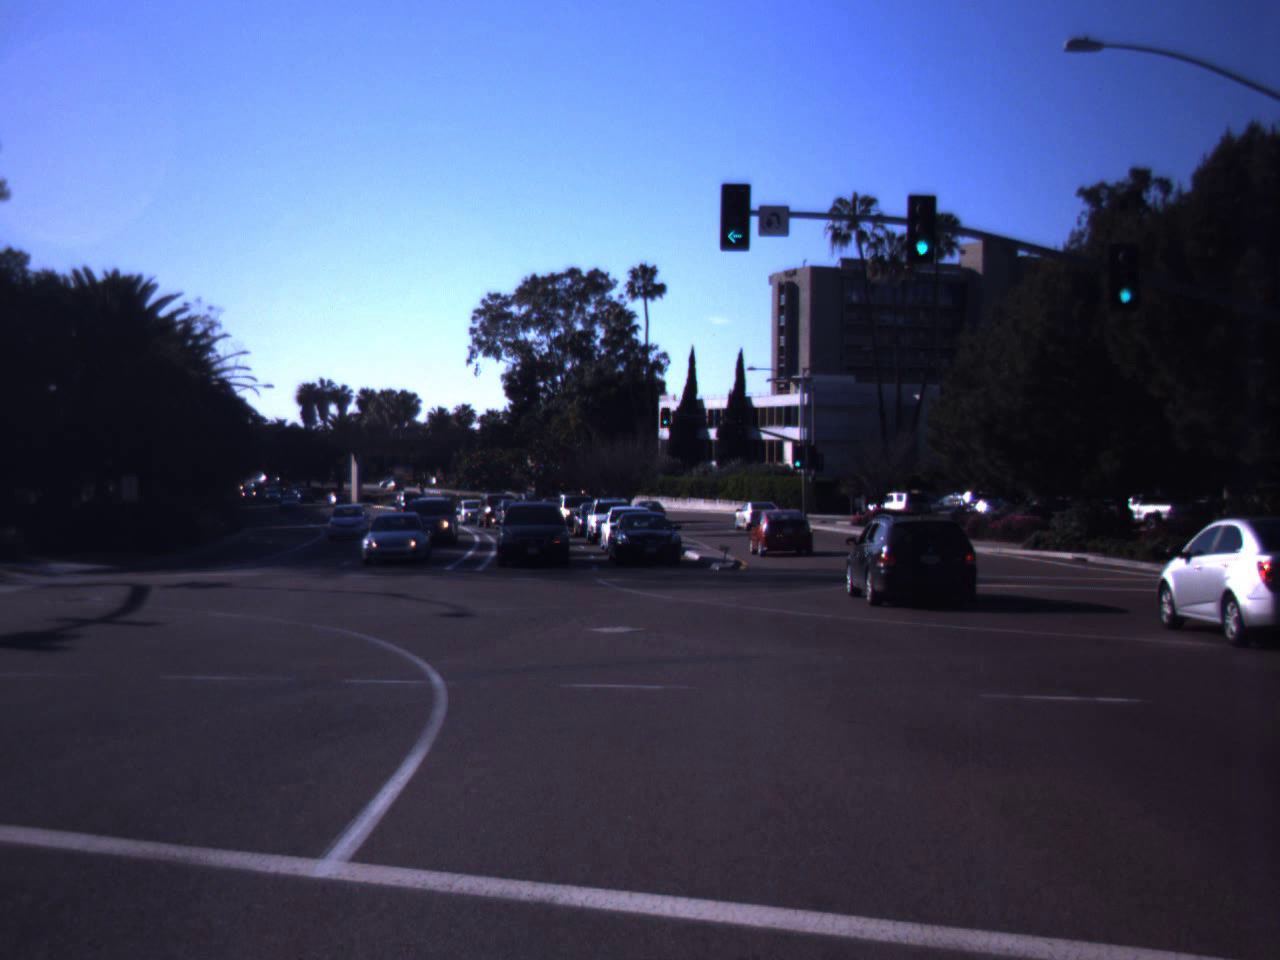go: (707, 163, 761, 253), (909, 209, 936, 259), (1114, 260, 1138, 305)
